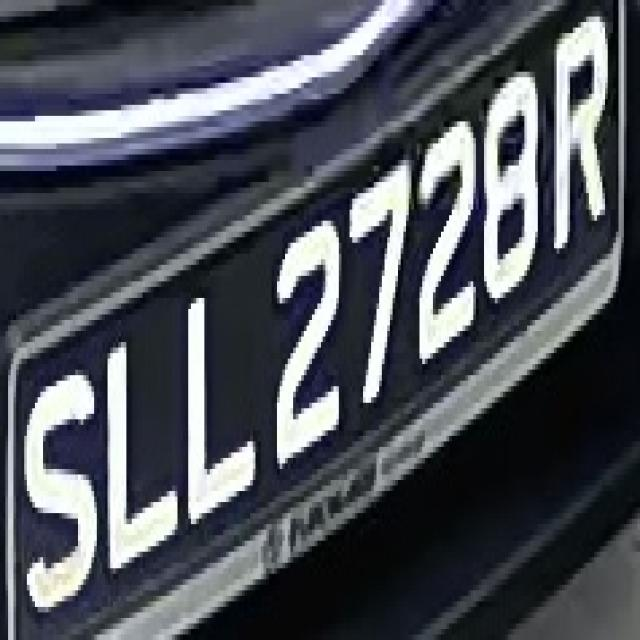2: (266, 204, 347, 458), (411, 110, 484, 370)
7: (342, 160, 412, 425)
8: (476, 49, 549, 314)
L: (170, 259, 264, 541), (100, 326, 180, 580)
R: (540, 0, 610, 265)
S: (11, 348, 94, 624)
